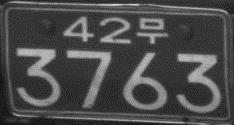2: (98, 16, 131, 43)
3: (175, 52, 221, 114), (15, 47, 62, 107)
4: (63, 15, 94, 42)
6: (121, 51, 168, 111)
7: (65, 48, 112, 109)
무: (136, 16, 168, 43)
